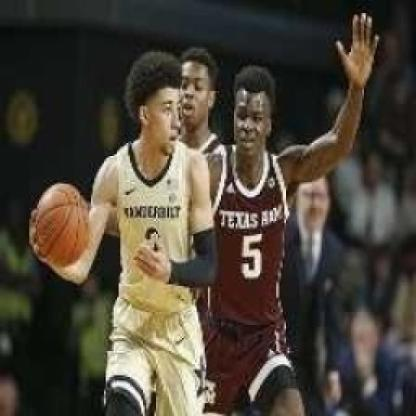basketball: (30, 171, 94, 277)
